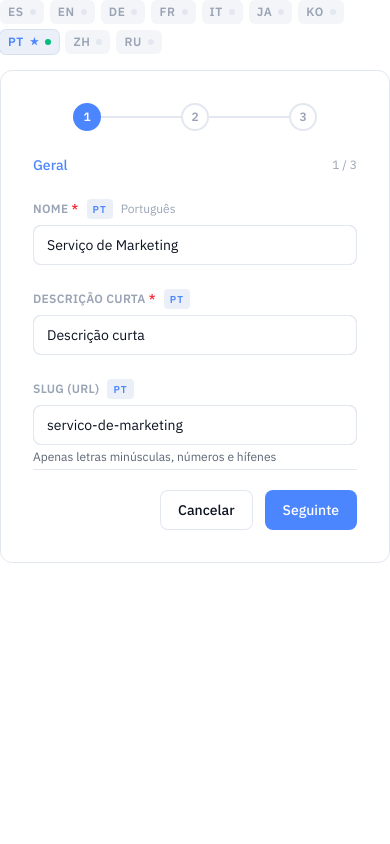
Test: ServiceForm — AI translation suggestion › uses the editor’s own current UI language as the source, not a fixed one (Portuguese case)
The width and height of the screenshot is (390, 844).
Click the button "en" at {"x": 72, "y": 12}, box [50, 0, 95, 24]
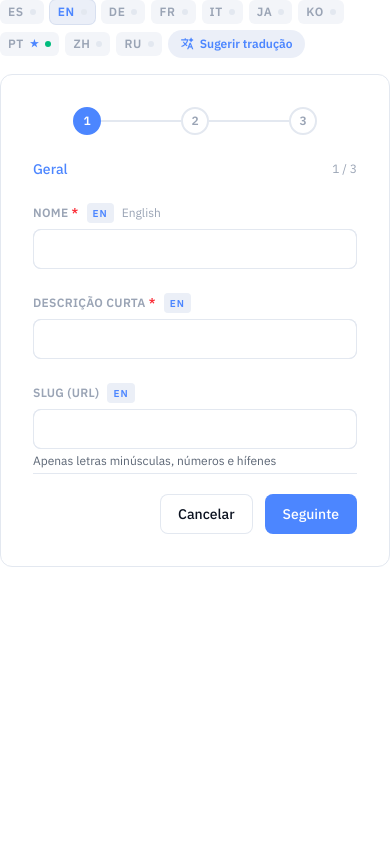
Result: the button "Sugerir tradução" is shown at [168, 30, 305, 58]
